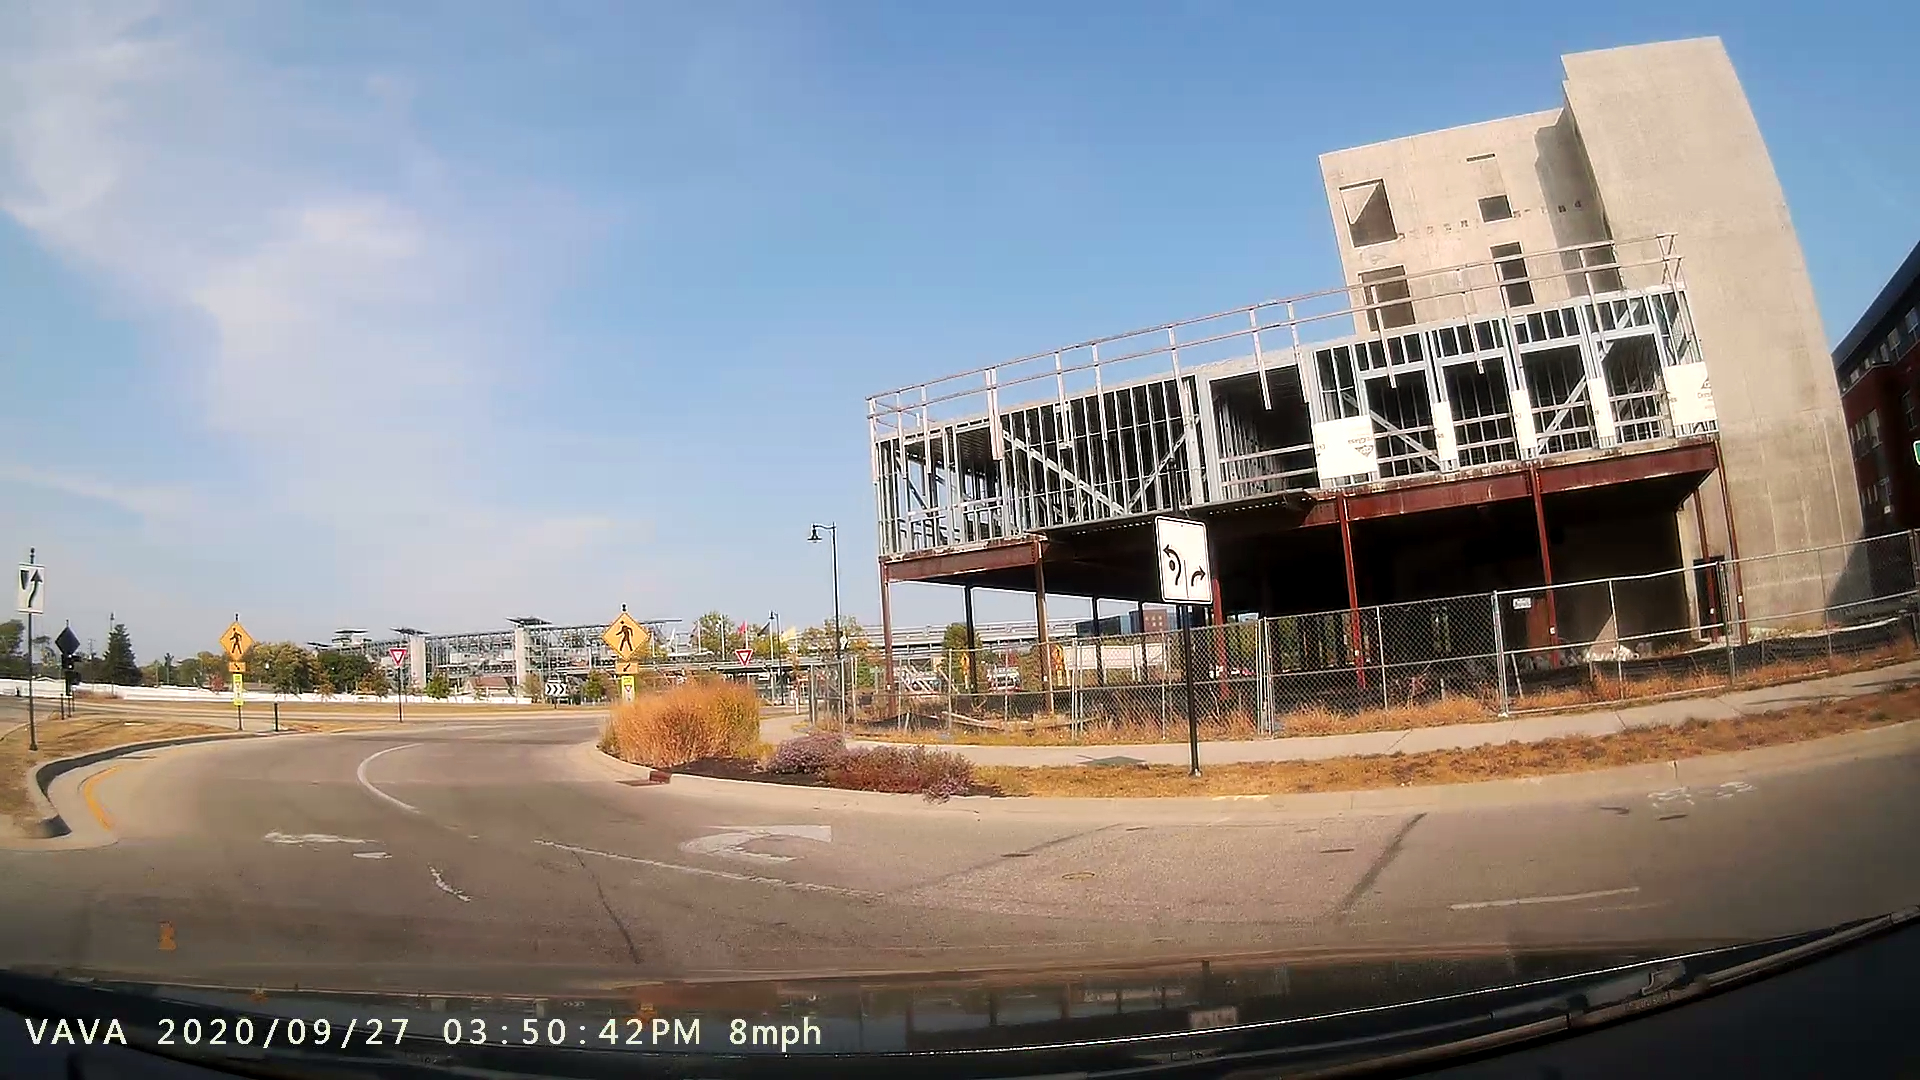right_turn: (673, 814, 847, 868)
